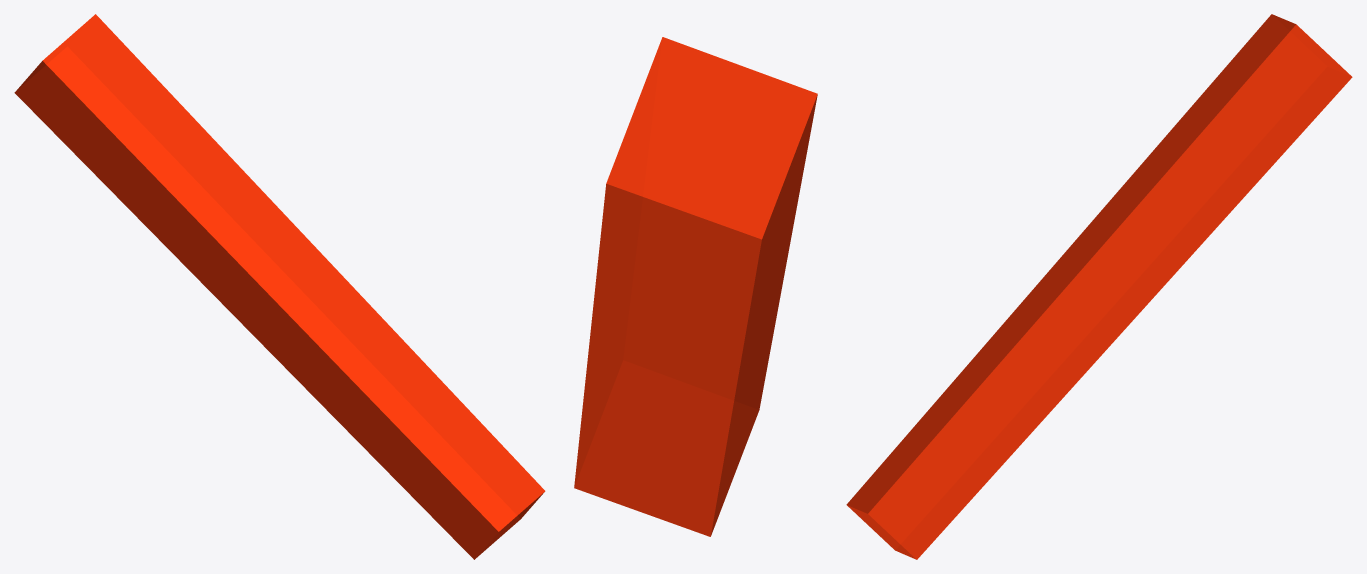
File: Event_421115418_EBrechit_3.fbx
The picture shows the model from 3 angles, left to right: view 1: azimuth 30°, elevation 25°; view 2: azimuth 150°, elevation 25°; view 3: azimuth 270°, elevation 25°; orthographic projection. The views are drawn at different scales.
Parts seen in each view (by area): view 1: Model; view 2: Model; view 3: Model.
Part boxes in pixels (left/top/right/bottom): Model: left=14, top=14, right=545, bottom=559; Model: left=574, top=37, right=817, bottom=536; Model: left=846, top=14, right=1352, bottom=559.
Bounding box in the file's own units: 0.2724 × 0.3829 × 0.3992.
